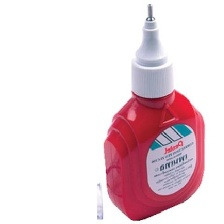correction_fluid: (100, 0, 210, 222)
